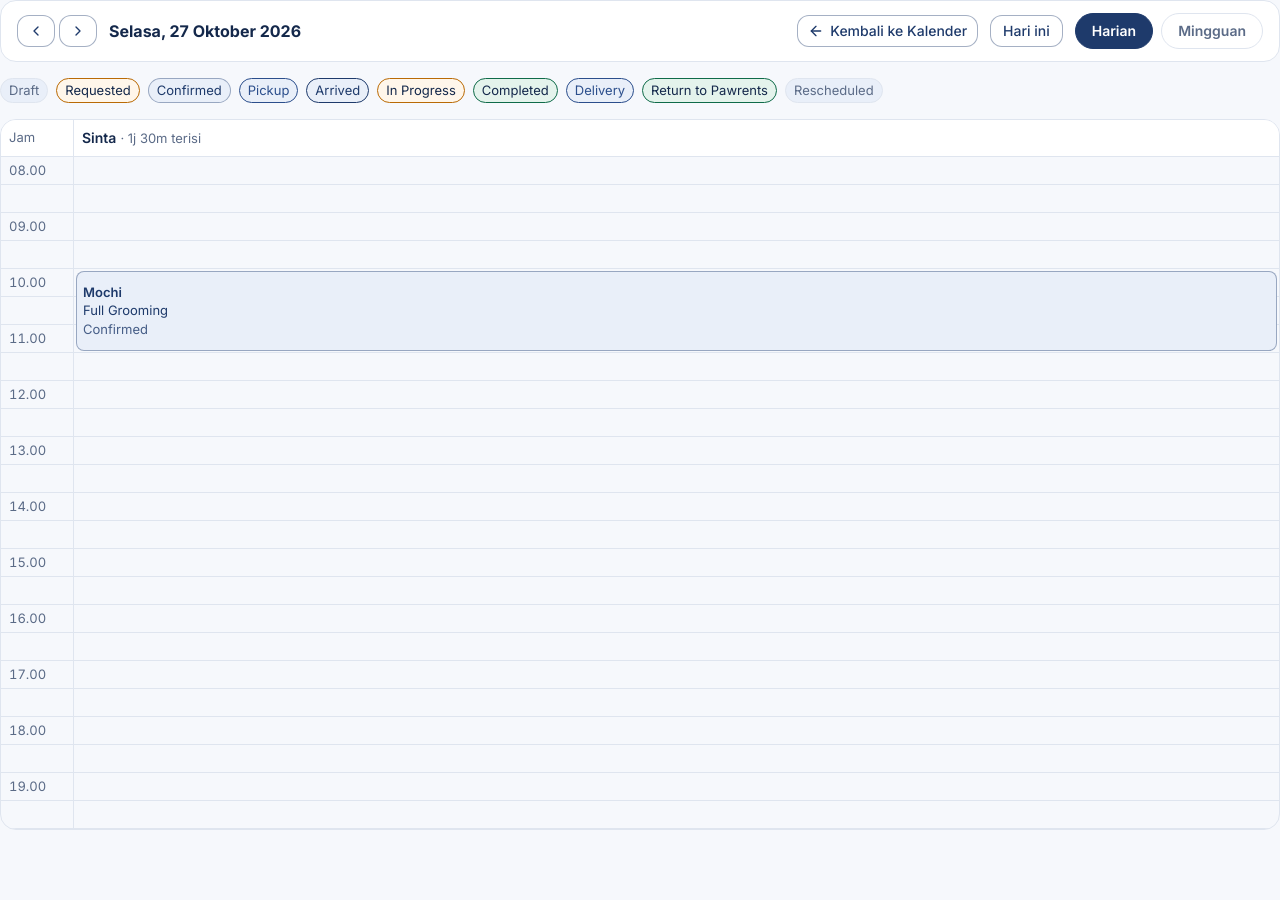
Scenario: BookingCalendarScreen › opens the booking when a block is clicked
Click the text "Mochi" at (102, 292), box [83,284,122,300]
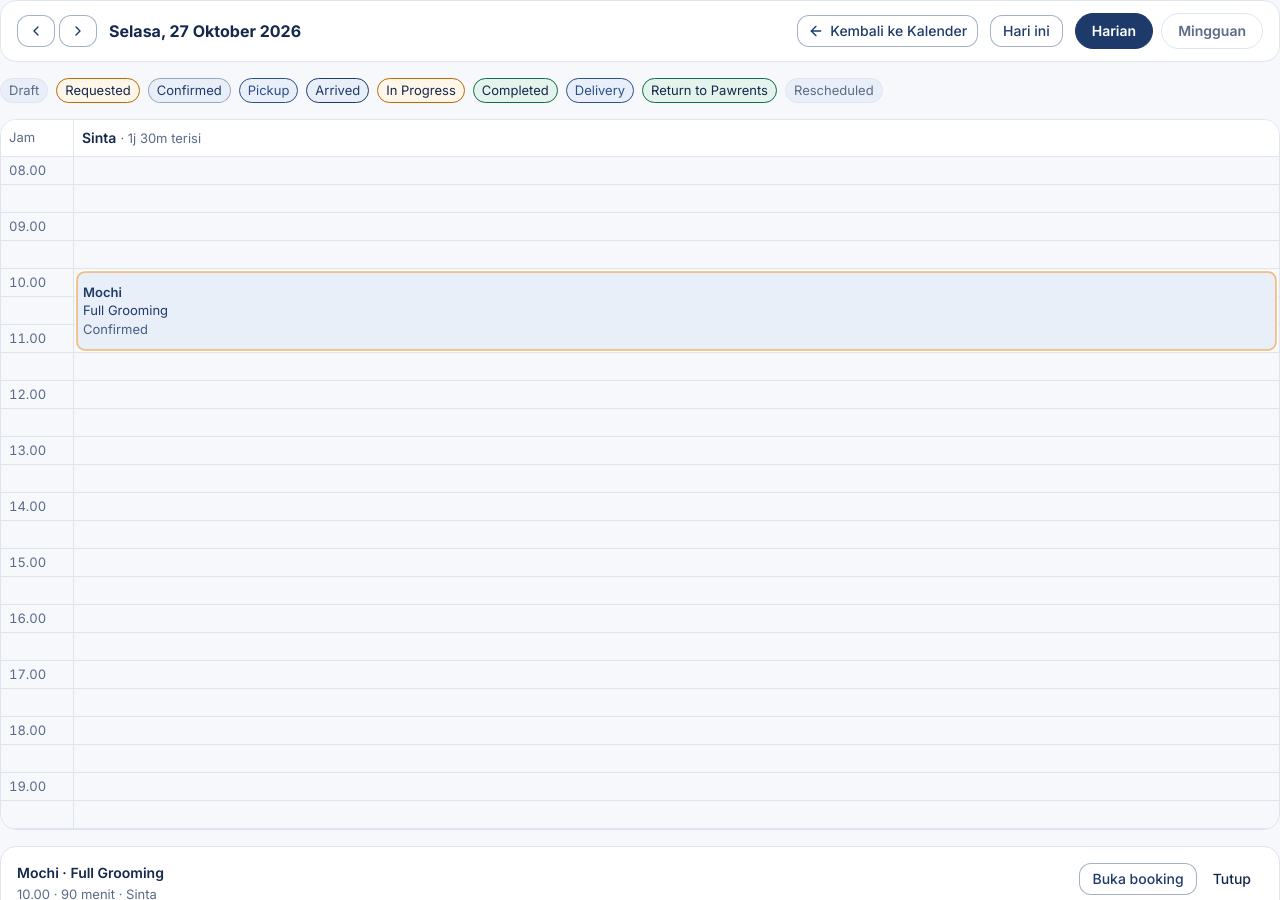
Result: the button "Tutup" is shown at [1201,863,1263,895]
